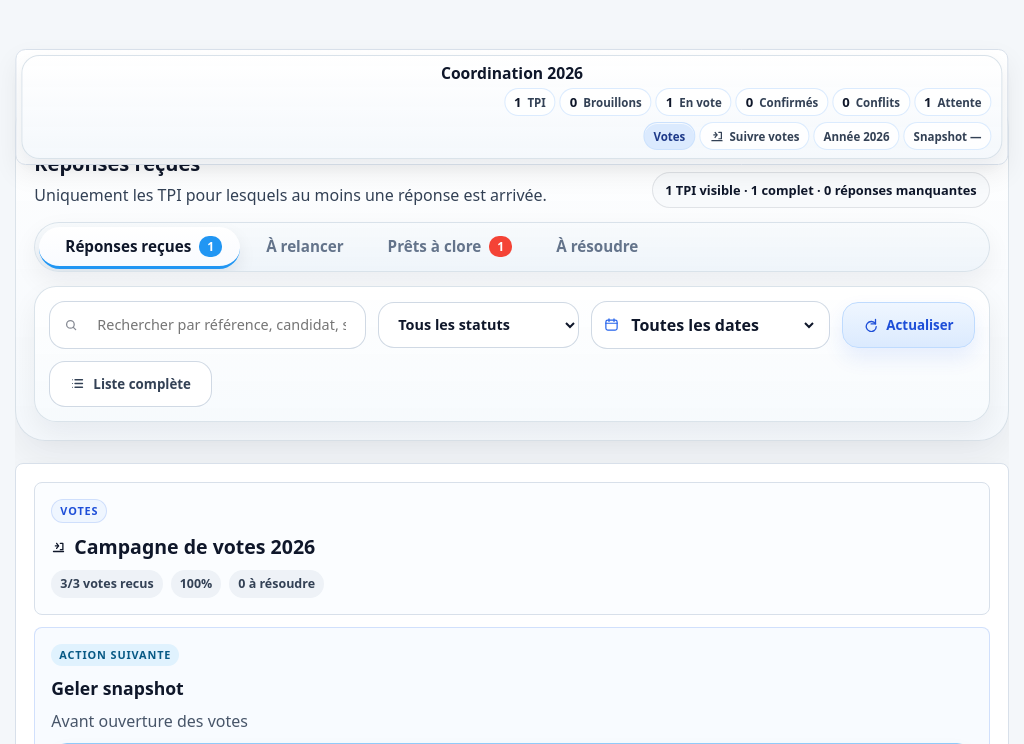
PlanningDashboard › garde une file filtrée vide quand aucun TPI avec réponse ne correspond
The width and height of the screenshot is (1024, 744).
Step 1. Click the button "À relancer" → (301, 248), box [240,227,362,269]
(page scrolled)
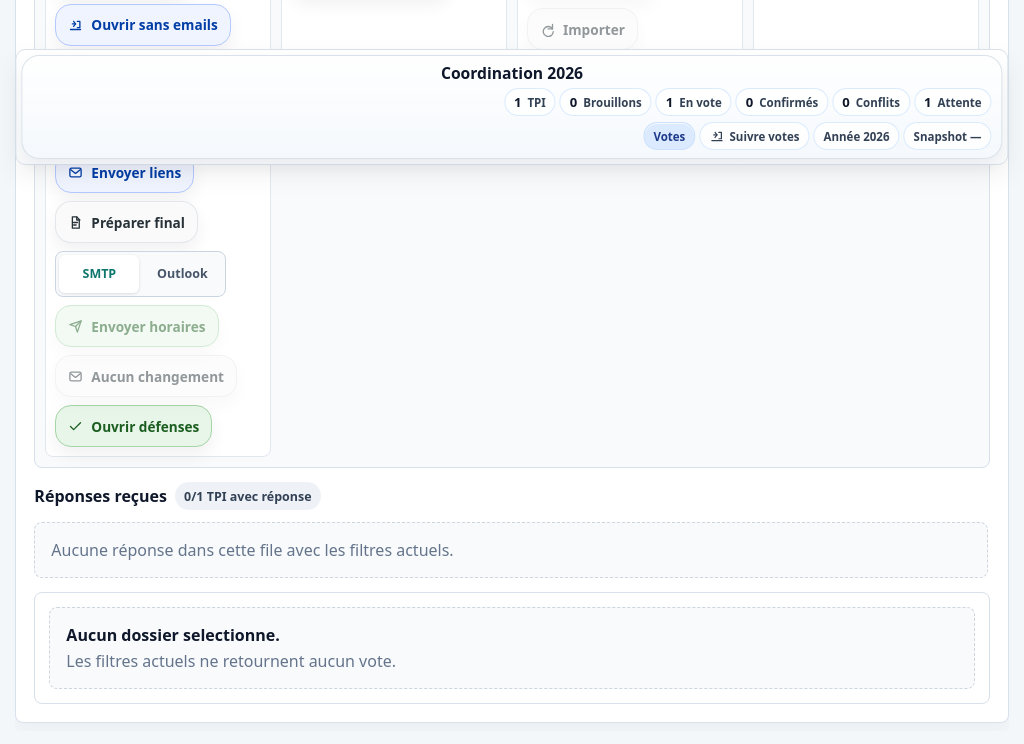
Result: the text "Aucune réponse dans cette file avec les filtres actuels." is shown at [34,522,988,578]
